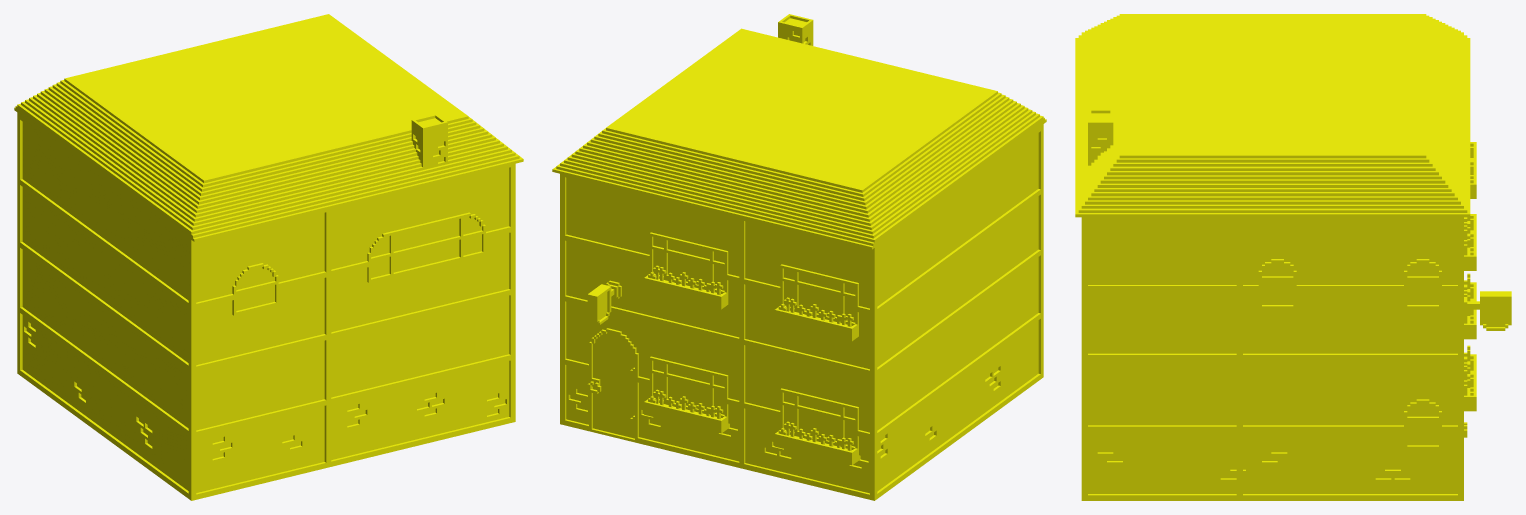
File: voxel-village-shop.glb
3 renders of one model, left to right at view 1: azimuth 30°, elevation 25°; view 2: azimuth 150°, elevation 25°; view 3: azimuth 270°, elevation 25°, orthographic. The views are drawn at different scales.
Visible parts, largest first — view 1: VS_Villagers_Shop; view 2: VS_Villagers_Shop; view 3: VS_Villagers_Shop.
Part boxes in pixels (x1,y1,x2,y2): VS_Villagers_Shop: (14,14,523,500); VS_Villagers_Shop: (552,14,1046,500); VS_Villagers_Shop: (1075,14,1511,500).
Size of the model in its own units: 13.2 by 12 by 13.8.
